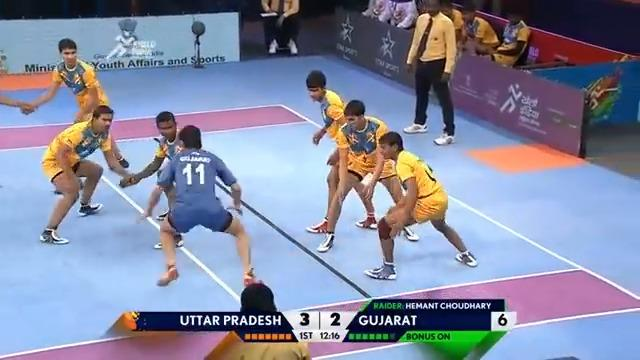Player: (19, 37, 130, 214), (363, 130, 478, 280), (315, 99, 418, 252), (38, 104, 135, 244), (304, 69, 373, 234), (119, 110, 186, 248), (458, 3, 500, 59)
Raider: (154, 124, 257, 287)
referee: (203, 281, 311, 359), (402, 0, 457, 145), (259, 0, 301, 56)
